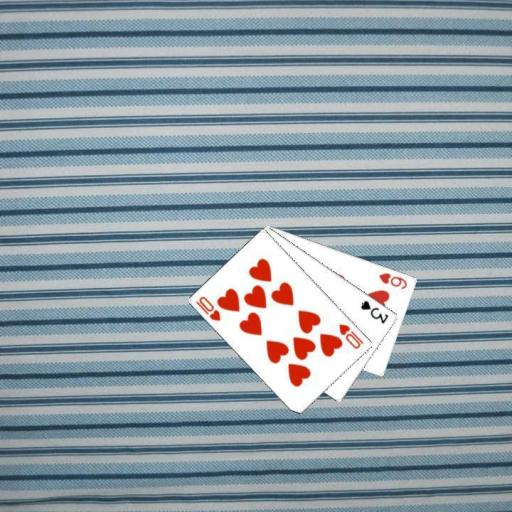card-corner: (336, 320, 366, 350), (358, 297, 390, 325), (192, 293, 222, 322), (376, 270, 409, 290)
